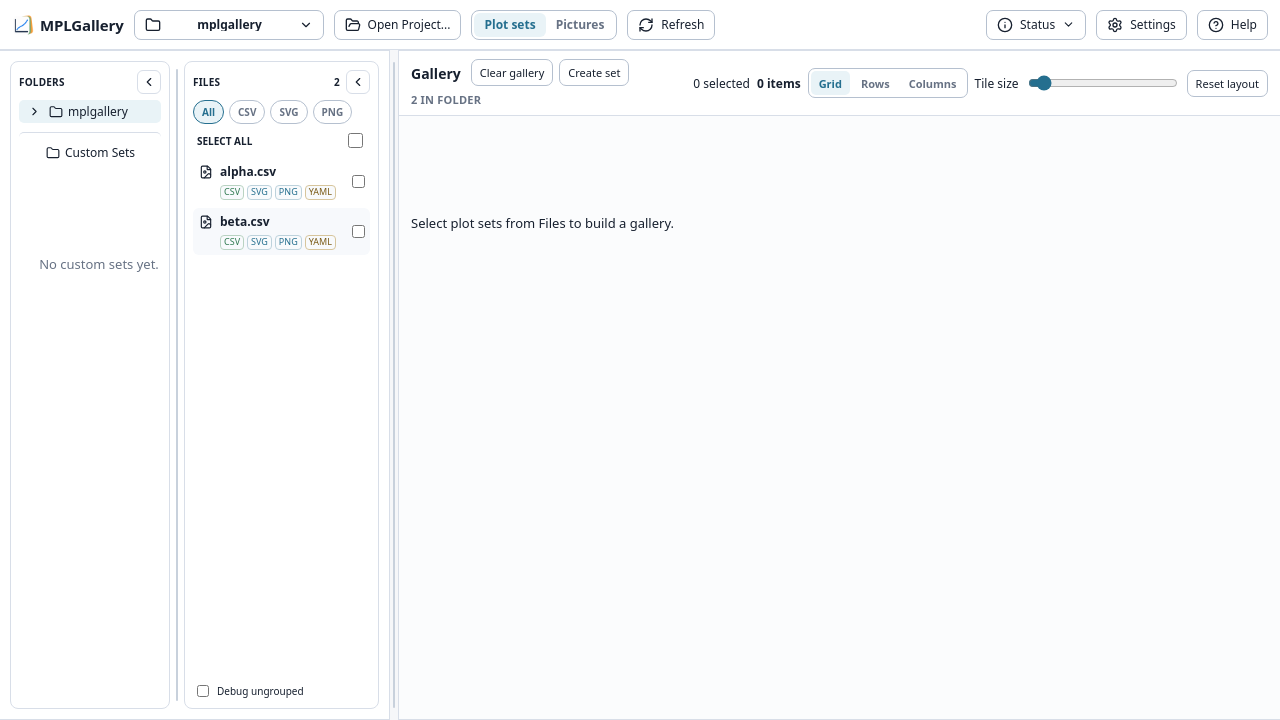
Test case: App explorer › selects and clears all visible plot sets from the files pane
Click the checkbox named "Select all plot sets in folder" at x=356, y=140, box [348,133,363,148]
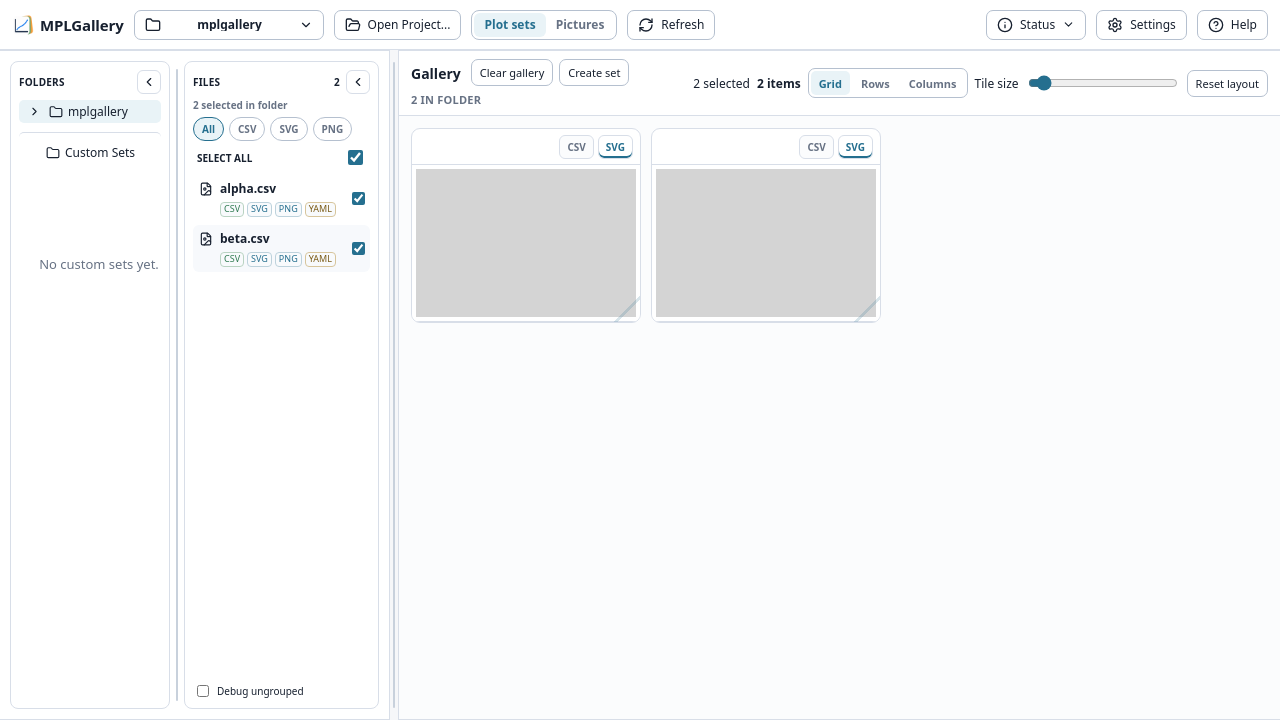
Result: the checkbox named "Show alpha.csv" is checked at [352,192,365,205]
Result: the checkbox named "Show beta.csv" is checked at [352,241,365,254]
Result: the text "2 selected in folder" is shown at [193,98,288,112]
Click the checkbox named "Clear all plot sets in folder" at x=356, y=158, box [348,150,363,165]
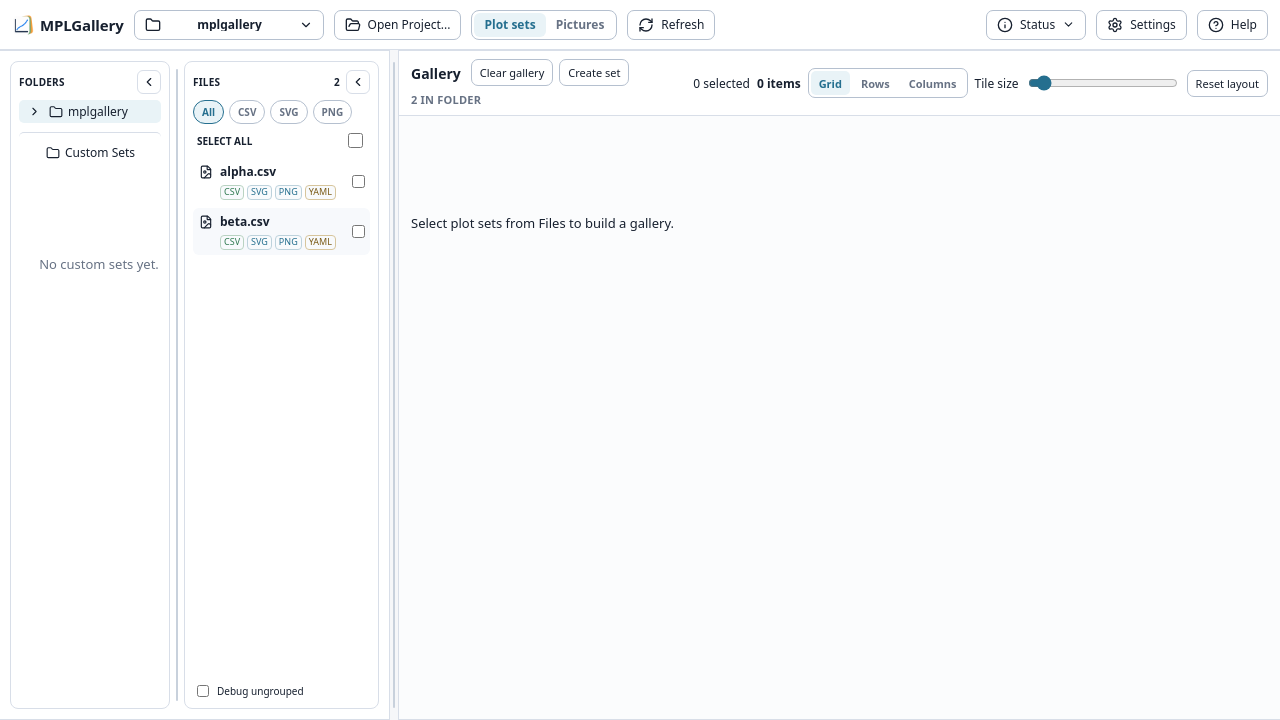
Result: the checkbox named "Show alpha.csv" is not checked at [352,175,365,188]
Result: the checkbox named "Show beta.csv" is not checked at [352,224,365,237]
